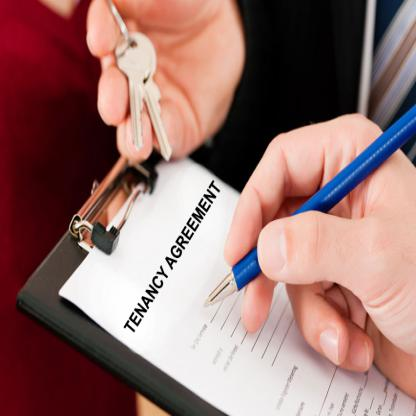keys: (117, 26, 172, 160)
